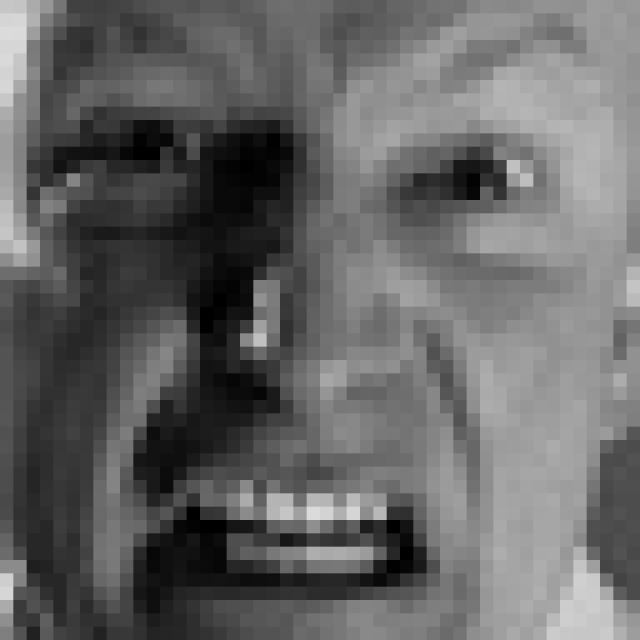angry: (29, 23, 578, 640)
